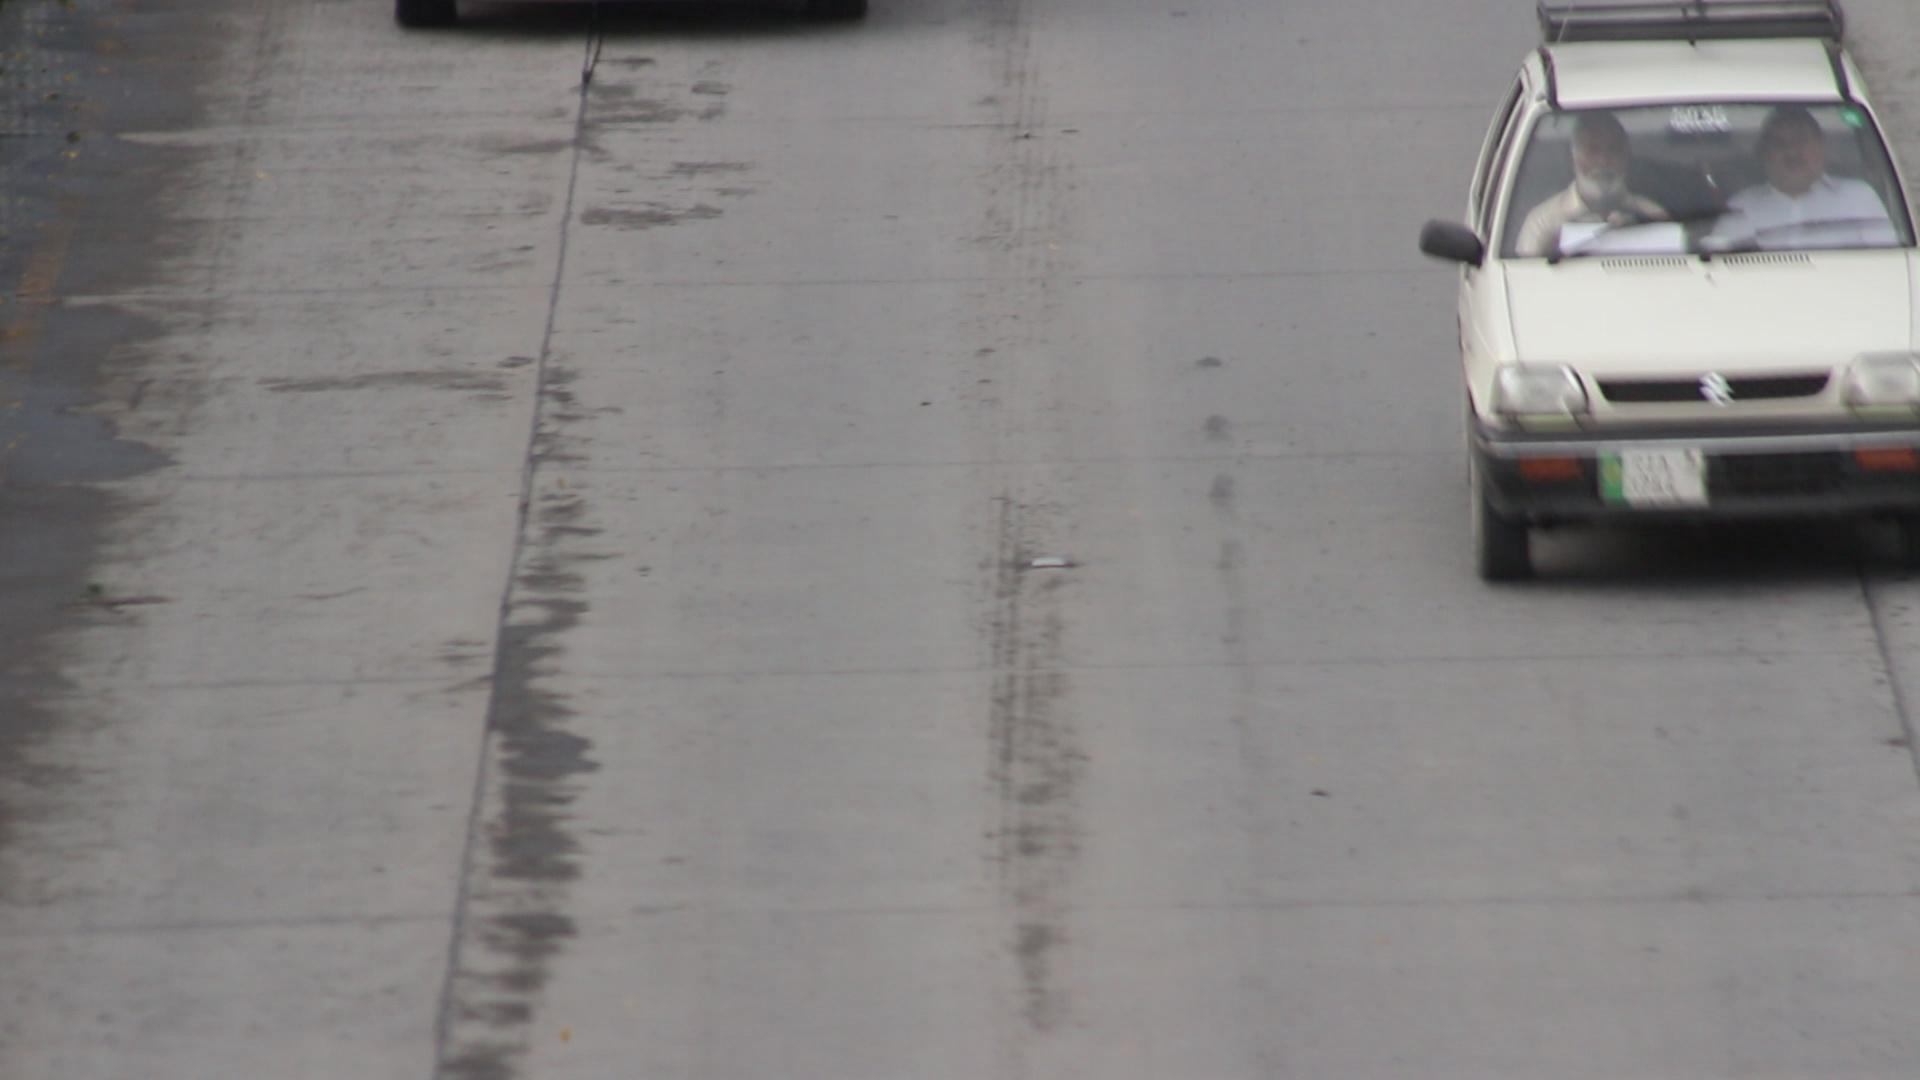windshield: (1490, 83, 1913, 277)
